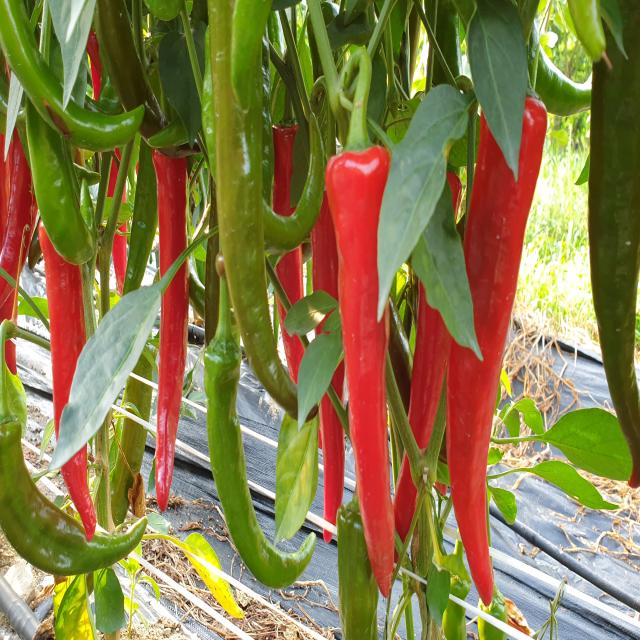chili: (446, 96, 548, 607), (325, 147, 395, 596), (39, 222, 86, 437), (155, 262, 189, 511), (409, 282, 451, 449), (0, 129, 38, 280), (152, 151, 188, 278), (319, 396, 345, 524), (61, 447, 96, 539), (311, 193, 339, 300), (272, 124, 298, 218), (278, 300, 304, 382), (394, 456, 416, 540), (275, 247, 304, 304), (0, 276, 15, 321), (332, 362, 345, 402), (5, 340, 16, 373)
